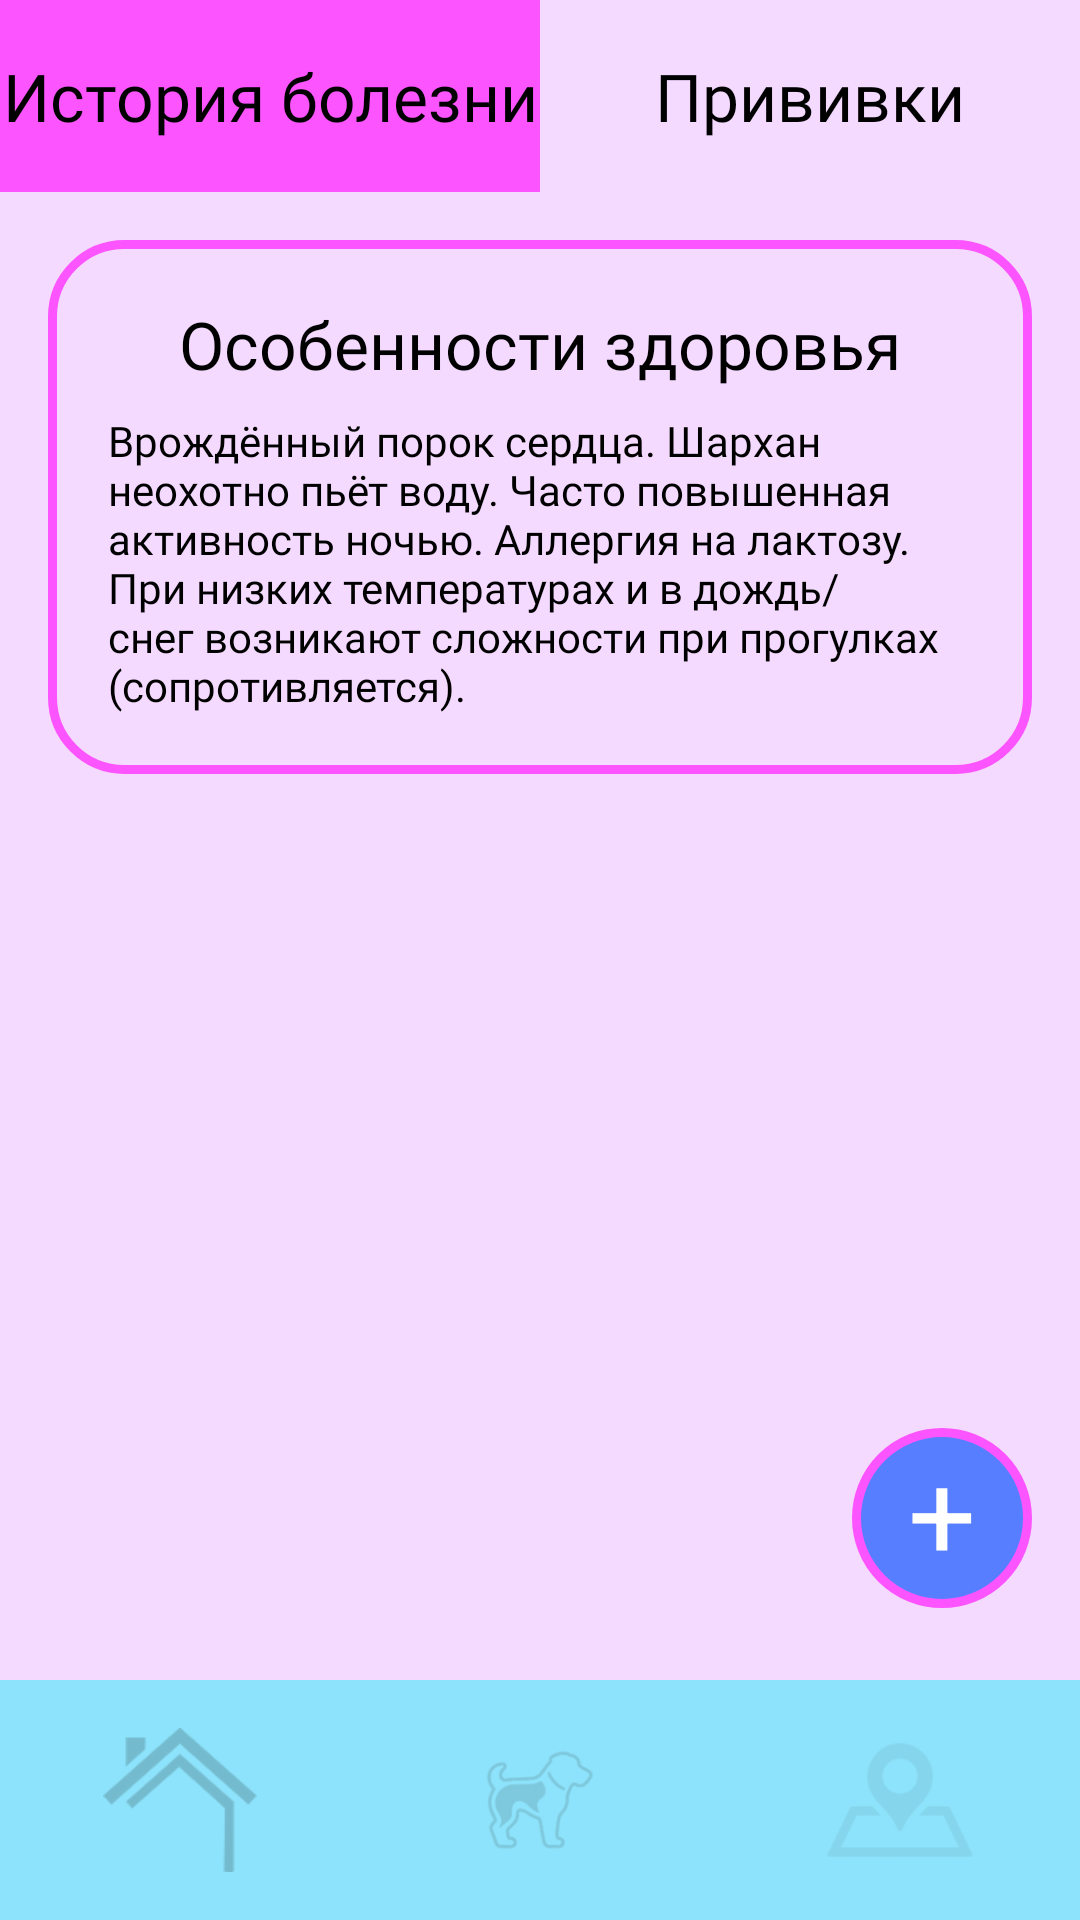

Point at icon controls on the screen. Image size 1080px×1920px, points as (x,y).
home: (179,1800)
